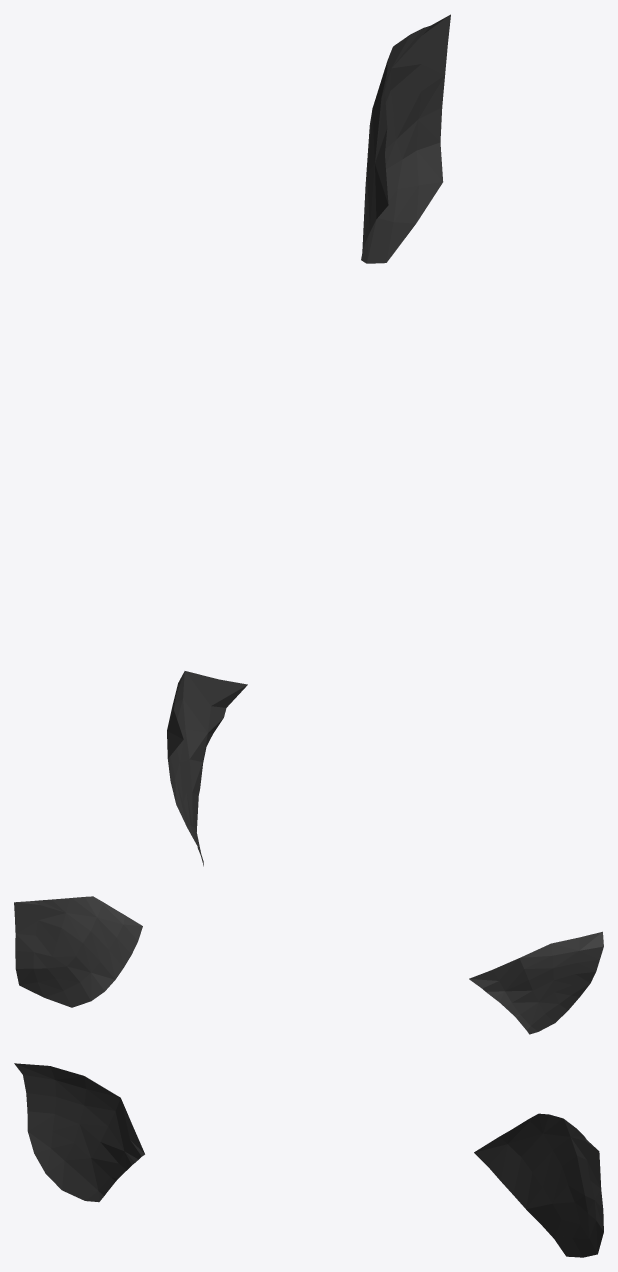
Rendered from eq_dist_limb_Short_Sesamoidean_Ligg.glb.
The picture shows the model from 3 angles, top to bottom: view 1: azimuth 30°, elevation 25°; view 2: azimuth 150°, elevation 25°; view 3: azimuth 270°, elevation 25°; orthographic projection. The views are drawn at different scales.
Visible parts, largest first — view 1: eq_dist_limb_Short_Sesamoidean_Ligg; view 2: eq_dist_limb_Short_Sesamoidean_Ligg; view 3: eq_dist_limb_Short_Sesamoidean_Ligg.
Boxes of the visible parts, x1=… form: eq_dist_limb_Short_Sesamoidean_Ligg: x1=167, y1=14, x2=450, y2=866; eq_dist_limb_Short_Sesamoidean_Ligg: x1=14, y1=896, x2=603, y2=1034; eq_dist_limb_Short_Sesamoidean_Ligg: x1=14, y1=1063, x2=603, y2=1257.
Bounding box in the file's own units: 0.00402 × 0.00212 × 0.00437.
1 material, 1 textured.
